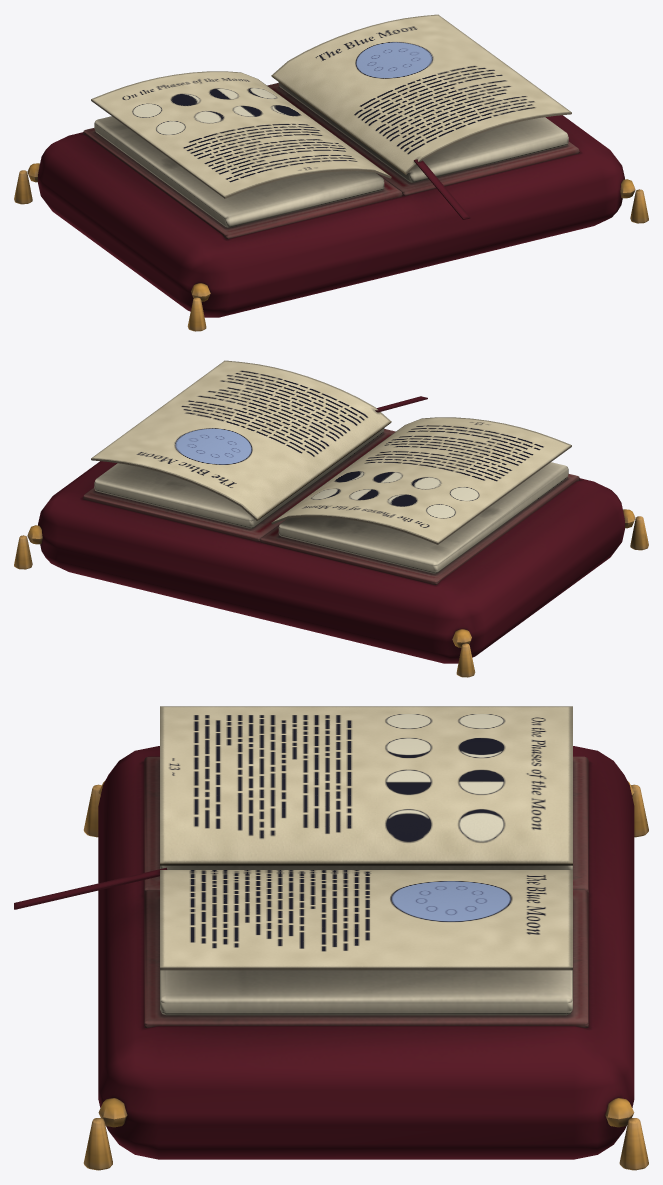
File: OpenBook.fbx
3 renders of one model, top to bottom at view 1: azimuth 30°, elevation 25°; view 2: azimuth 150°, elevation 25°; view 3: azimuth 270°, elevation 25°, orthographic. The views are drawn at different scales.
Visible parts, largest first — view 1: OpenBook; view 2: OpenBook; view 3: OpenBook.
Boxes of the visible parts, x1,y1,x2,y2 form: OpenBook: (14, 14, 648, 331); OpenBook: (14, 360, 648, 677); OpenBook: (14, 706, 648, 1170).
Size of the model in its own units: 259 by 64.33 by 201.
